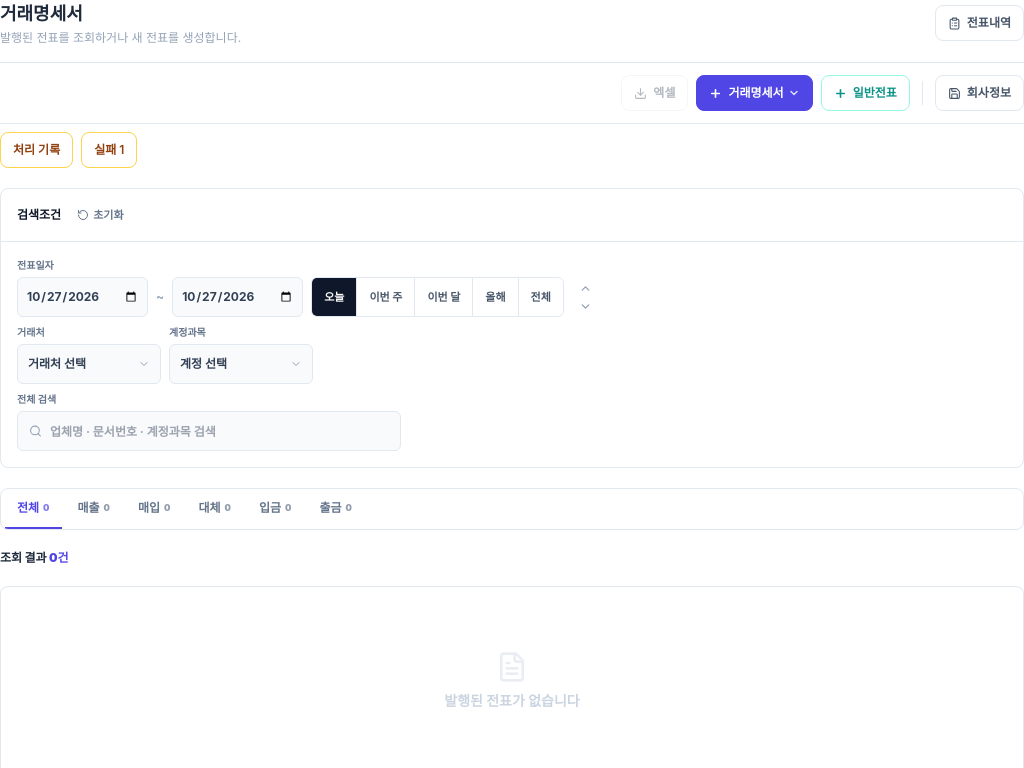
it: 손상된 수정 원문과 참조는 가짜 조회·중단 없이 명시 기기 정리와 기록 조회로 연결된다
What coordinates should you click on to do the following:
click the button "실패 1"
I would click on:
 (109, 150)
Its box is 81,132 -> 137,168.
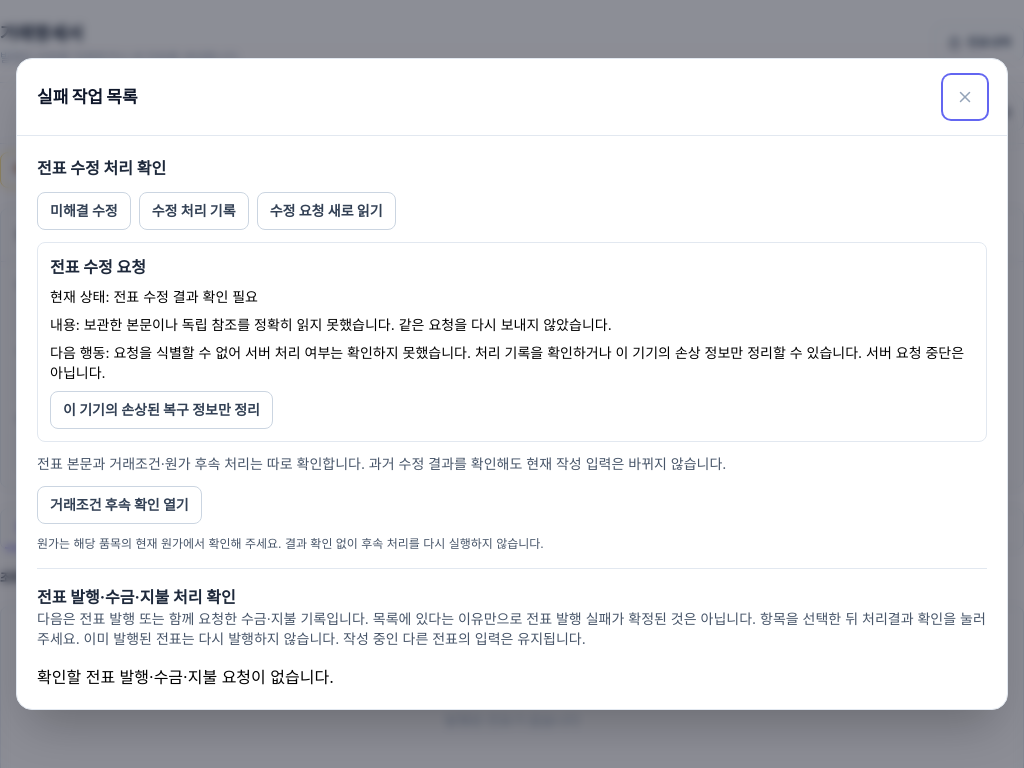
What coordinates should you click on to do the following:
click the button "이 기기의 손상된 복구 정보만 정리"
I would click on:
 (161, 410)
Its box is 50,391 -> 273,429.
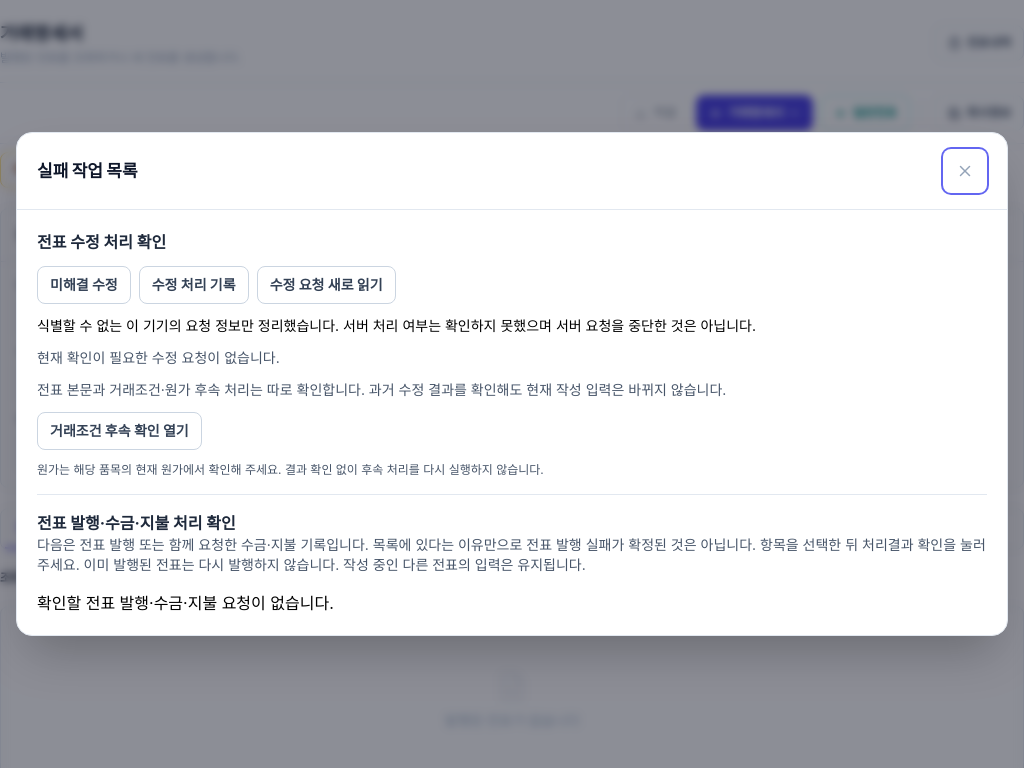
Expected: the button "수정 처리 기록" is enabled, 139,266 -> 249,304
Expected: the text "식별할 수 없는 이 기기의 요청 정보만 정리했습니다. 서버 처리 여부는 확인하지 못했으며 서버 요청을 중단한 것은 아닙니다." is shown, 37,317 -> 756,334
